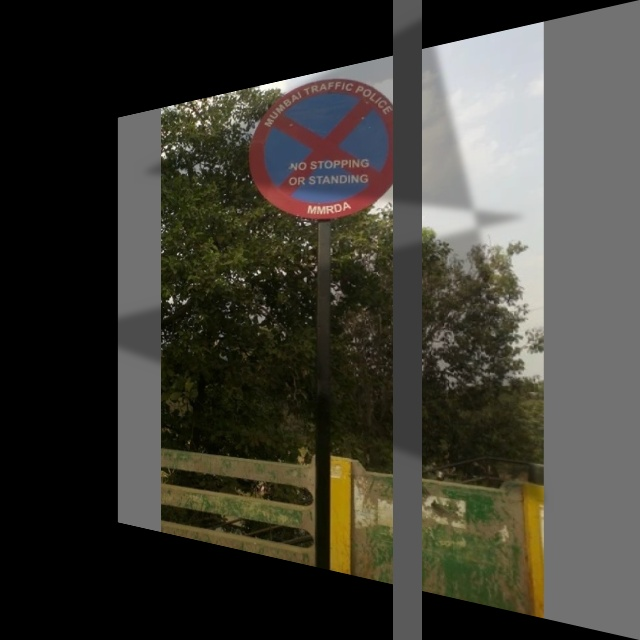No_Stopping_or_Standing: (250, 56, 414, 234)
